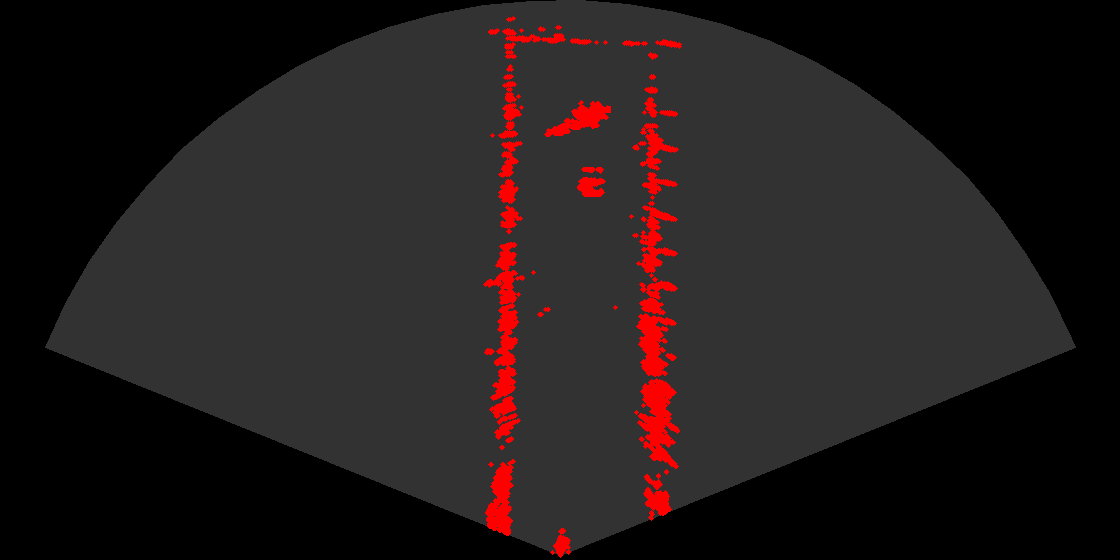ball: (557, 159, 617, 200)
frogman: (543, 94, 611, 141)
